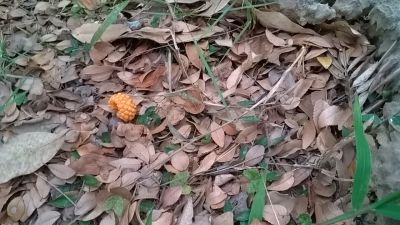eggs: (107, 91, 136, 122)
